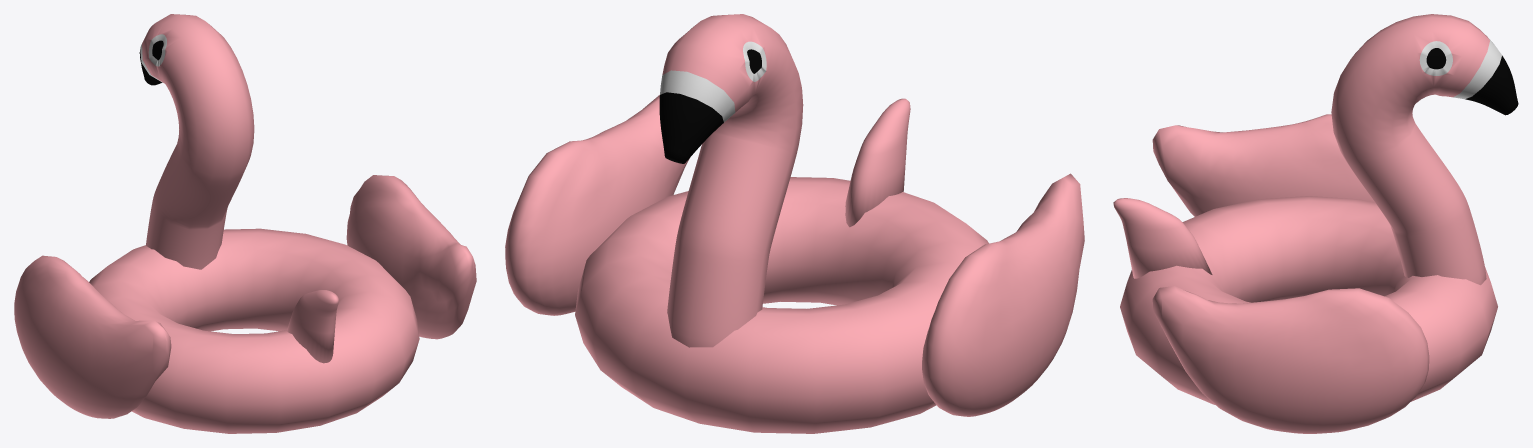
File: pool_float.glb
3 views of the same model, side by side, from view 1: azimuth 30°, elevation 25°; view 2: azimuth 150°, elevation 25°; view 3: azimuth 270°, elevation 25° (orthographic). The views are drawn at different scales.
Parts seen in each view (by area): view 1: Torus_2, NurbsPath_3, Sphere_4, Sphere.001_5, Cylinder_6; view 2: Torus_2, NurbsPath_3, Sphere_4, Sphere.001_5, Cylinder_6; view 3: Torus_2, Sphere.001_5, NurbsPath_3, Sphere_4, Cylinder_6.
Part boxes in pixels (x1,y1,x2,y2): Torus_2: (89, 228, 419, 433); NurbsPath_3: (139, 14, 254, 269); Sphere_4: (14, 255, 171, 418); Sphere.001_5: (346, 175, 476, 339); Cylinder_6: (287, 290, 338, 363); Torus_2: (575, 177, 988, 433); NurbsPath_3: (659, 14, 803, 347); Sphere_4: (922, 173, 1084, 416); Sphere.001_5: (505, 95, 689, 315); Cylinder_6: (845, 98, 910, 227); Torus_2: (1120, 196, 1497, 404); Sphere.001_5: (1152, 286, 1429, 433); NurbsPath_3: (1331, 14, 1518, 285); Sphere_4: (1152, 114, 1374, 216); Cylinder_6: (1113, 198, 1212, 278).
Size of the model in its own units: 1.81 by 1.38 by 1.5.
